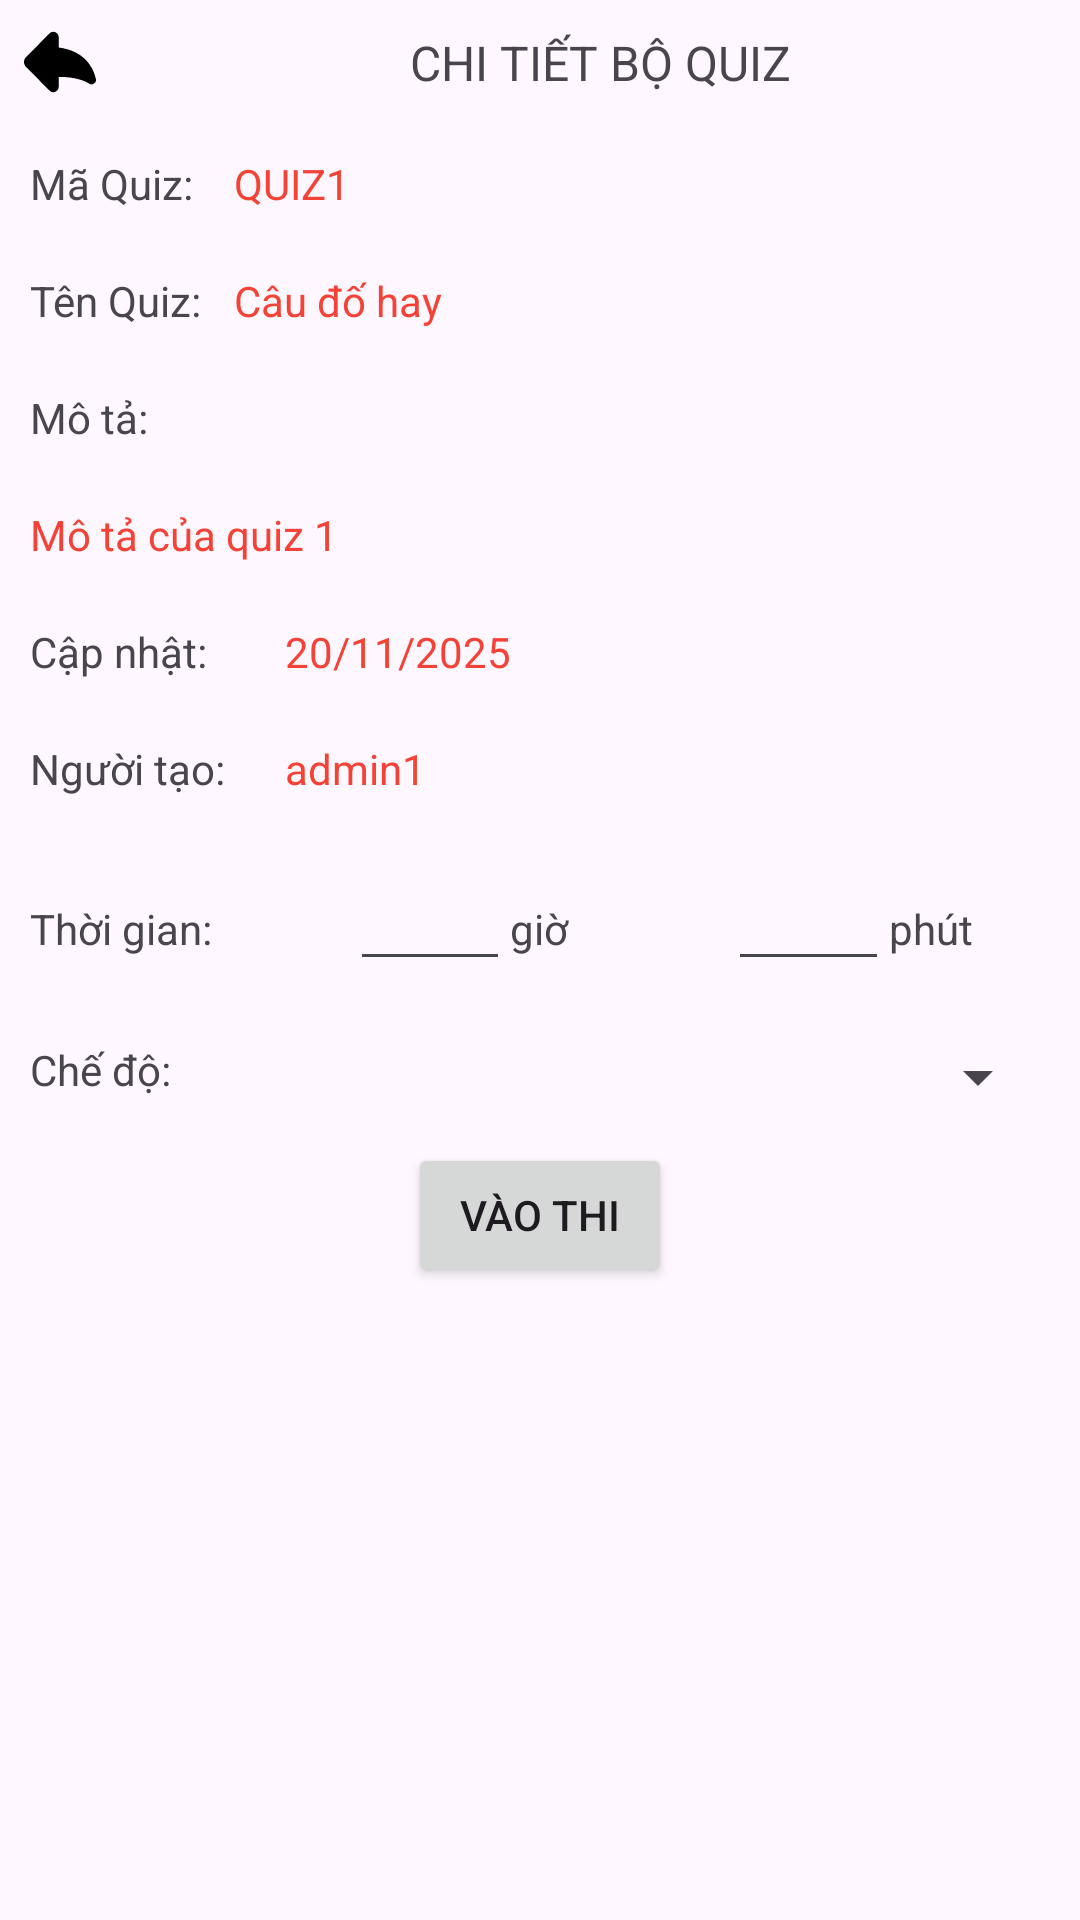

Screen size 1080w x 1920h. Icon name, then its center in pixels as point (x, y):
back arrow: point (60, 62)
